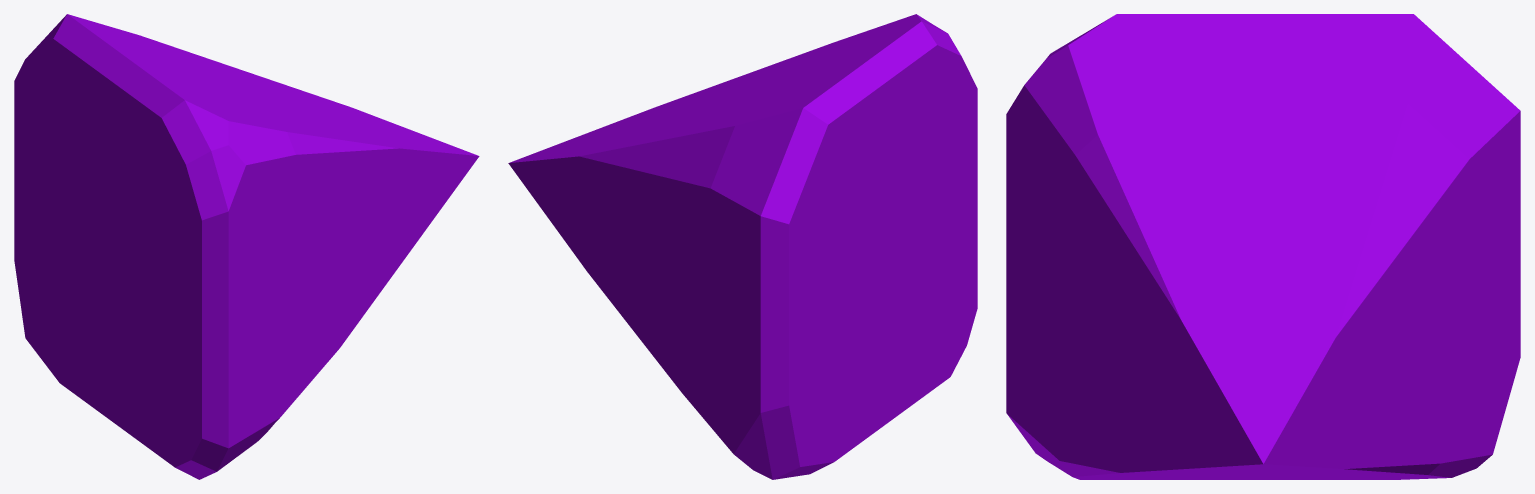
The model's file is kristal_08.fbx.
3 renders of one model, left to right at view 1: azimuth 30°, elevation 25°; view 2: azimuth 150°, elevation 25°; view 3: azimuth 270°, elevation 25°, orthographic. The views are drawn at different scales.
Parts seen in each view (by area): view 1: kristal_08; view 2: kristal_08; view 3: kristal_08.
Part boxes in pixels (box(x1,y1,x2,y2)): kristal_08: box(14, 14, 479, 479); kristal_08: box(508, 14, 977, 479); kristal_08: box(1006, 14, 1520, 479).
Size of the model in its own units: 0.4836 by 0.4585 by 0.4585.
